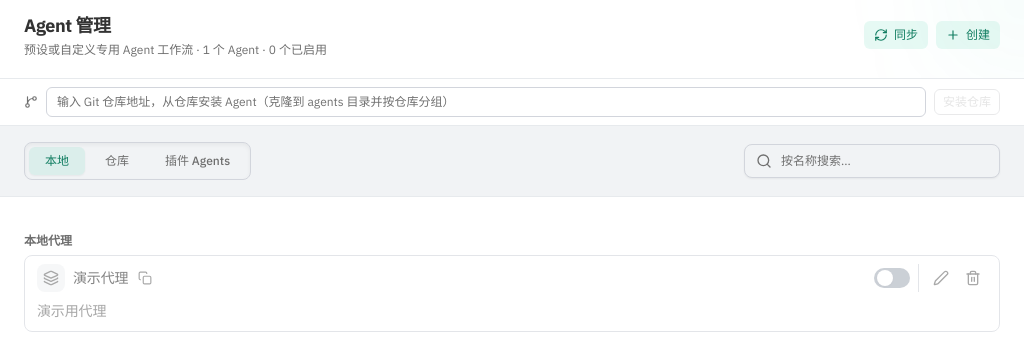
Test: AgentsDialog 仓库卸载接线 › AgentsDialog 业务失败：toast 展示 error 且不刷新
Click the button "仓库".
click(117, 161)  # box [89,147,145,175]
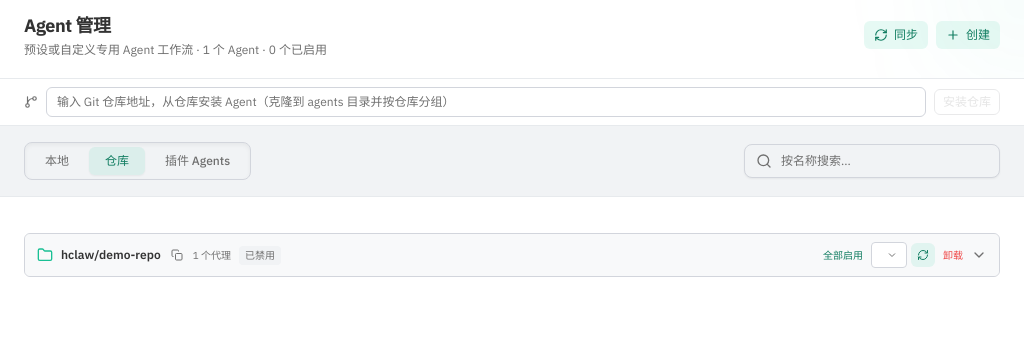
expect the button "卸载" is shown: met
Click the button "卸载".
click(953, 255)  # box [943,248,963,262]
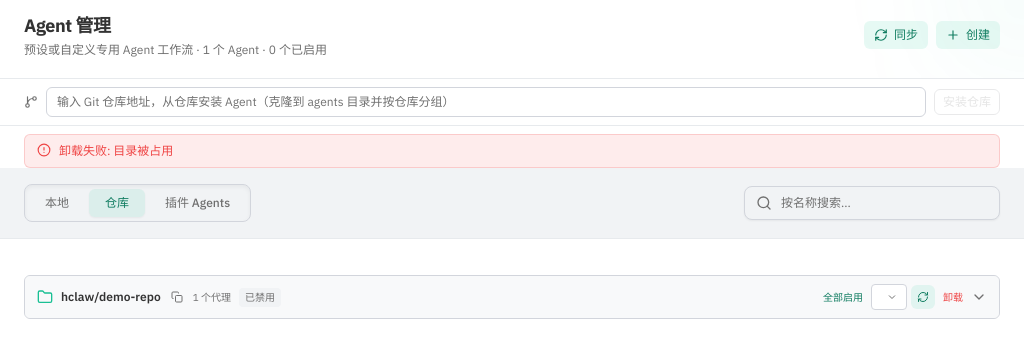
expect the text "卸载失败: 目录被占用" is shown: met, box [59,143,173,159]
